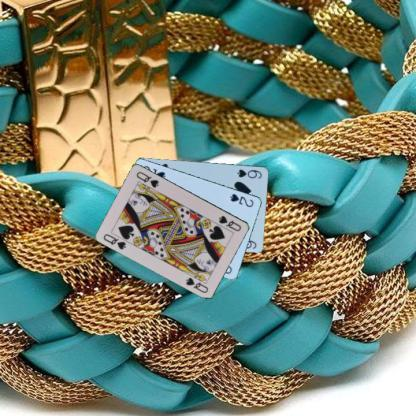2s: (228, 191, 255, 208)
6s: (235, 167, 263, 180)
Qs: (101, 231, 127, 251), (216, 213, 243, 232)
